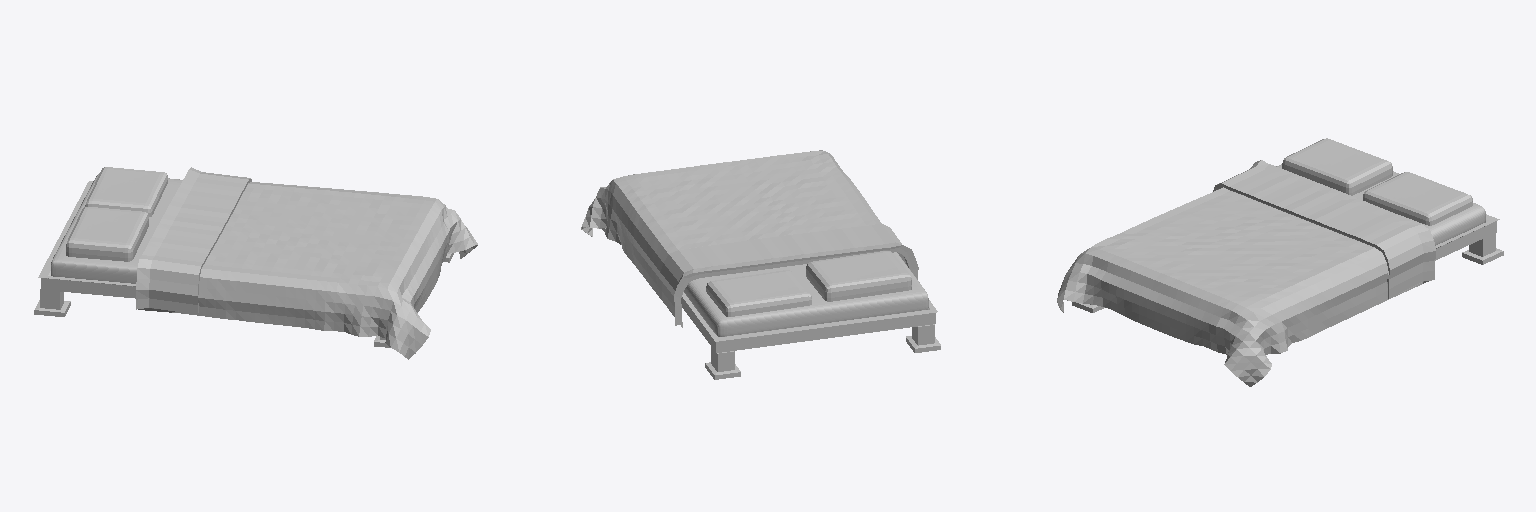
The model's file is bed1.obj.
3 views of the same model, side by side, from view 1: azimuth 30°, elevation 25°; view 2: azimuth 150°, elevation 25°; view 3: azimuth 270°, elevation 25° (orthographic).
Visible parts, largest first — view 1: Plane_Plane.001, Cube.005_Cube.003, Cube.001_Cube.006, Cube.002_Cube.005, Cube; view 2: Plane_Plane.001, Cube.001_Cube.006, Cube, Cube.005_Cube.003, Cube.002_Cube.005; view 3: Plane_Plane.001, Cube.005_Cube.003, Cube.002_Cube.005, Cube, Cube.001_Cube.006.
Boxes of the visible parts, box(x1,y1,x2,y2) form: Plane_Plane.001: box(136, 167, 477, 359); Cube.005_Cube.003: box(66, 207, 148, 261); Cube.001_Cube.006: box(51, 173, 182, 283); Cube.002_Cube.005: box(85, 167, 167, 216); Cube: box(34, 181, 453, 347); Plane_Plane.001: box(581, 150, 918, 327); Cube.001_Cube.006: box(684, 252, 928, 336); Cube: box(602, 228, 940, 379); Cube.005_Cube.003: box(806, 251, 911, 301); Cube.002_Cube.005: box(706, 270, 811, 316); Plane_Plane.001: box(1057, 160, 1435, 386); Cube.005_Cube.003: box(1282, 138, 1392, 195); Cube.002_Cube.005: box(1363, 172, 1472, 225); Cube: box(1072, 214, 1503, 312); Cube.001_Cube.006: box(1276, 164, 1485, 245).
Bounding box in the file's own units: 0.5695 × 0.1067 × 0.558.